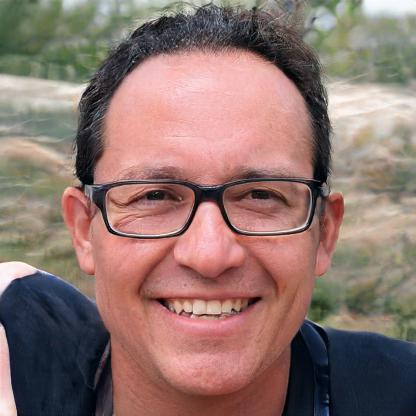glasses: (90, 172, 321, 240)
